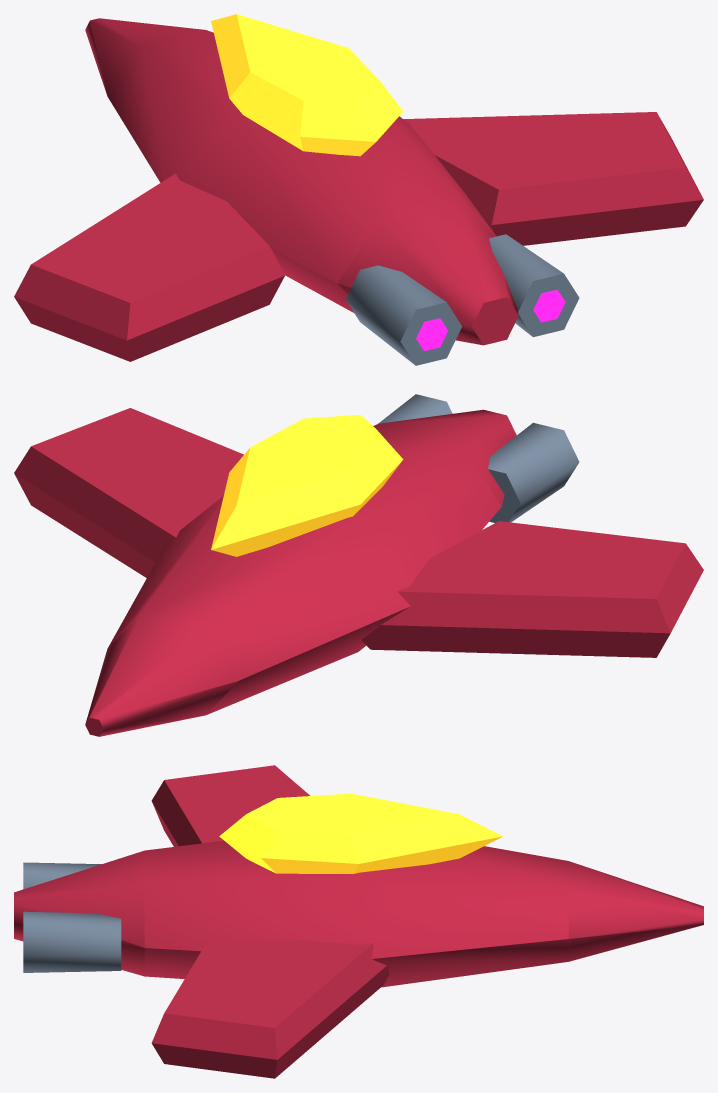
Rendered from basic_enemy_mockup.glb.
The picture shows the model from 3 angles, top to bottom: view 1: azimuth 30°, elevation 25°; view 2: azimuth 150°, elevation 25°; view 3: azimuth 270°, elevation 25°; orthographic projection. The views are drawn at different scales.
Parts seen in each view (by area): view 1: BASIC // REDJACK Mk II; view 2: BASIC // REDJACK Mk II; view 3: BASIC // REDJACK Mk II.
Boxes of the visible parts, x1=… form: BASIC // REDJACK Mk II: x1=14, y1=14, x2=703, y2=365; BASIC // REDJACK Mk II: x1=14, y1=394, x2=703, y2=736; BASIC // REDJACK Mk II: x1=14, y1=765, x2=703, y2=1078.
Bounding box in the file's own units: 2.8 × 0.7085 × 2.96.
